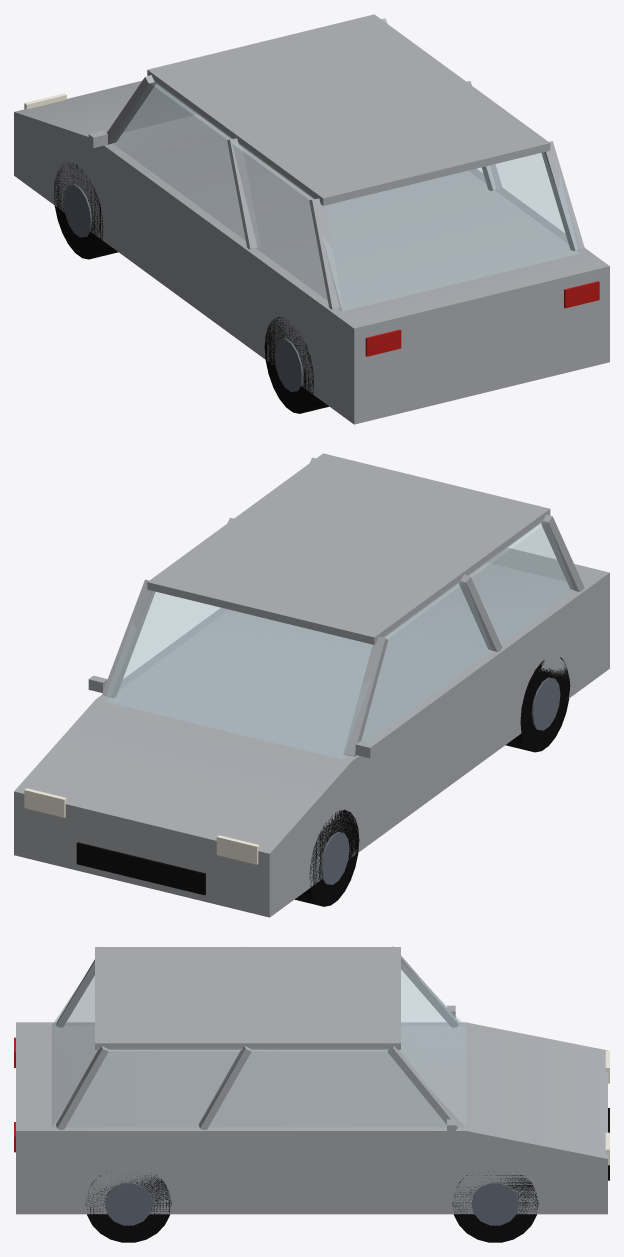
The model's file is vehicle.car.hatchback_silver.glb.
The picture shows the model from 3 angles, top to bottom: view 1: azimuth 30°, elevation 25°; view 2: azimuth 150°, elevation 25°; view 3: azimuth 270°, elevation 25°; orthographic projection. The views are drawn at different scales.
Parts seen in each view (by area): view 1: main__car_silver, main__glass, main__rubber, main__steel_painted, main__hazard_red; view 2: main__car_silver, main__glass, main__rubber, main__plastic_black, main__steel_painted, main__light_emitter; view 3: main__car_silver, main__glass, main__rubber, main__steel_painted.
Boxes of the visible parts, box(x1,y1,x2,y2) form: main__car_silver: box(14, 14, 609, 424); main__glass: box(113, 81, 580, 310); main__rubber: box(54, 163, 328, 413); main__steel_painted: box(63, 184, 303, 391); main__hazard_red: box(365, 281, 599, 356); main__car_silver: box(14, 453, 609, 917); main__glass: box(104, 520, 573, 759); main__rubber: box(295, 657, 570, 906); main__plastic_black: box(76, 842, 205, 895); main__steel_painted: box(320, 677, 560, 884); main__light_emitter: box(24, 788, 259, 864); main__car_silver: box(16, 946, 607, 1214); main__glass: box(52, 962, 465, 1126); main__rubber: box(85, 1171, 538, 1242); main__steel_painted: box(104, 1183, 519, 1225).
Size of the model in its own units: 1.96 by 1.48 by 4.13.
